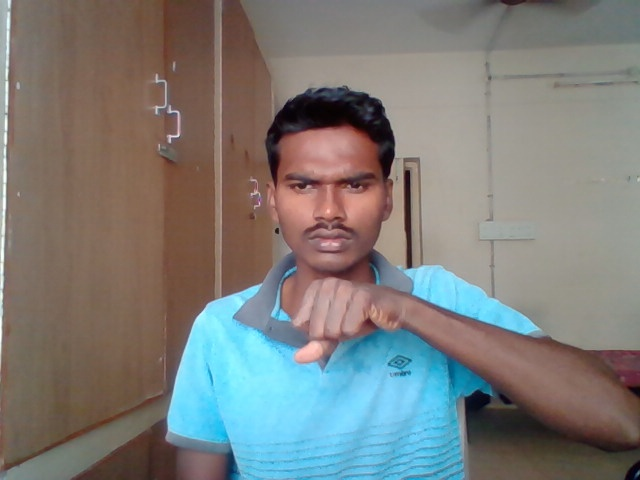Thank You: (289, 275, 406, 366)
